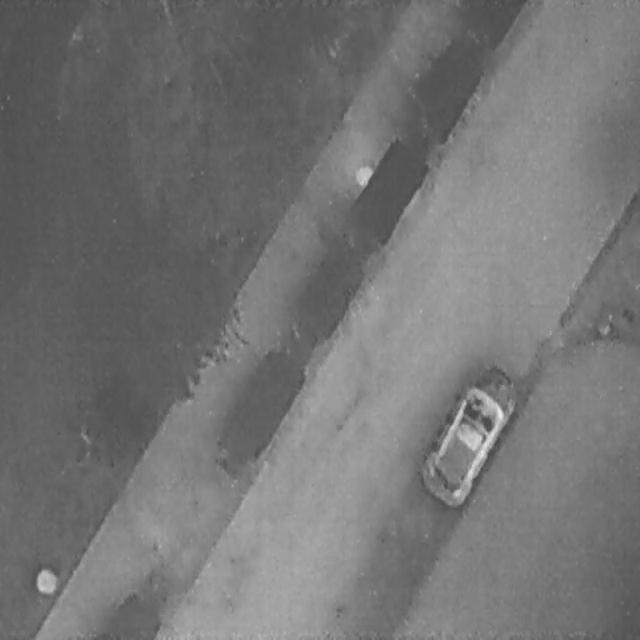Car: (411, 345, 526, 516)
